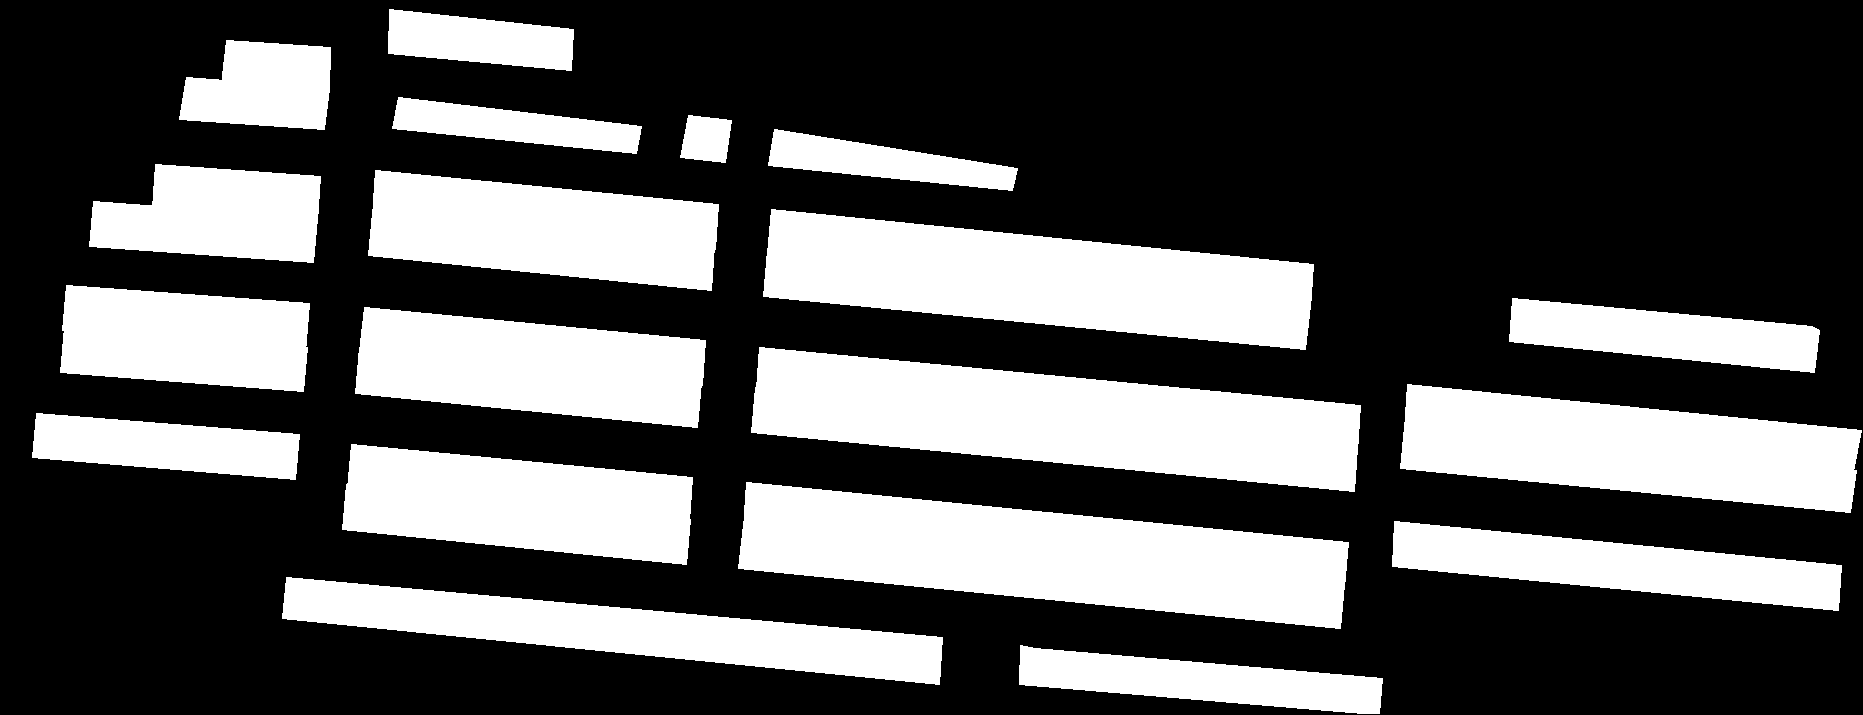parkingspot: (282, 577, 942, 684), (743, 482, 1349, 587), (738, 524, 1344, 628), (756, 347, 1360, 451), (751, 387, 1357, 491), (763, 249, 1311, 349), (768, 209, 1313, 308), (1404, 384, 1861, 472), (1392, 521, 1840, 610), (1400, 426, 1856, 512), (355, 347, 701, 428), (342, 485, 690, 564), (372, 170, 718, 249), (359, 306, 705, 385), (368, 211, 714, 290), (347, 444, 691, 521), (1019, 645, 1382, 713), (1509, 298, 1819, 372), (32, 413, 299, 479), (62, 285, 309, 352), (59, 327, 307, 391), (768, 129, 1017, 190), (89, 201, 317, 262), (392, 97, 640, 153), (389, 10, 573, 70), (152, 164, 320, 221), (179, 77, 329, 129), (221, 40, 330, 91), (680, 115, 731, 162)
